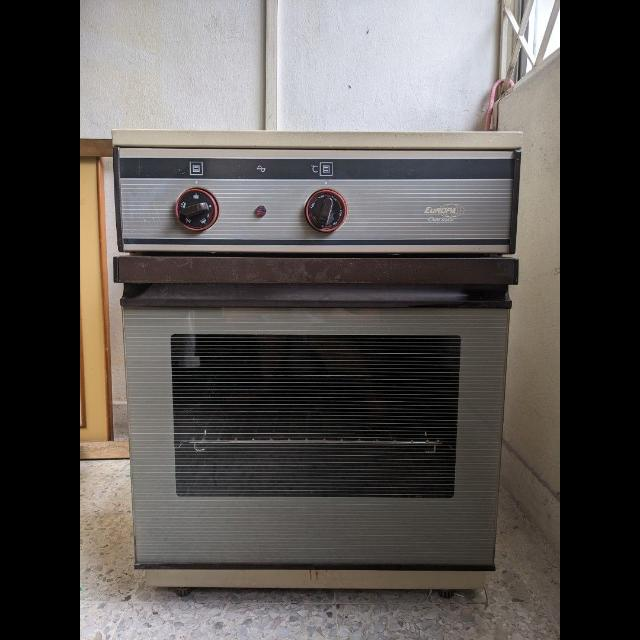Oven: (112, 130, 516, 588)
